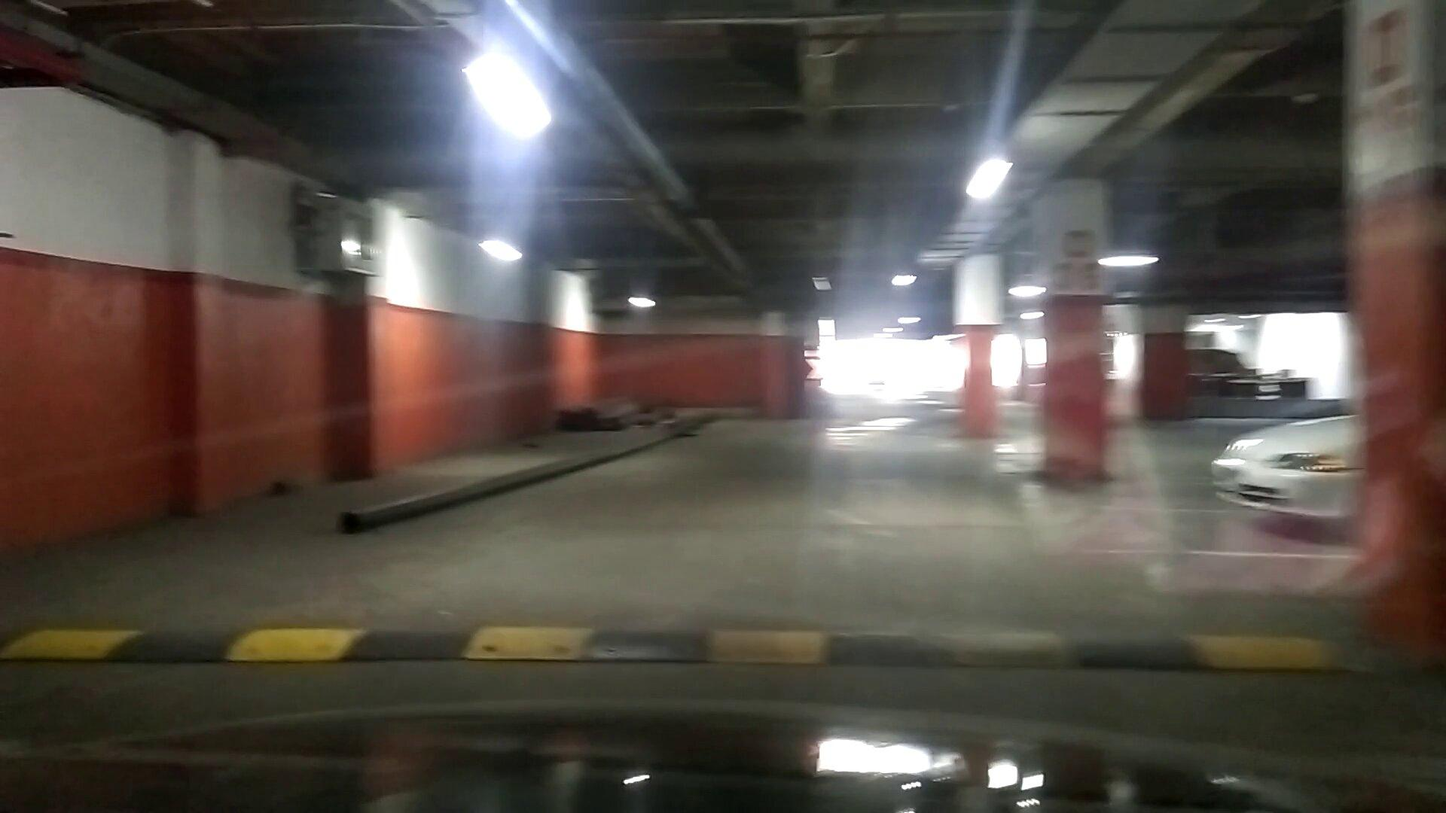Bump: (2, 623, 1372, 671)
